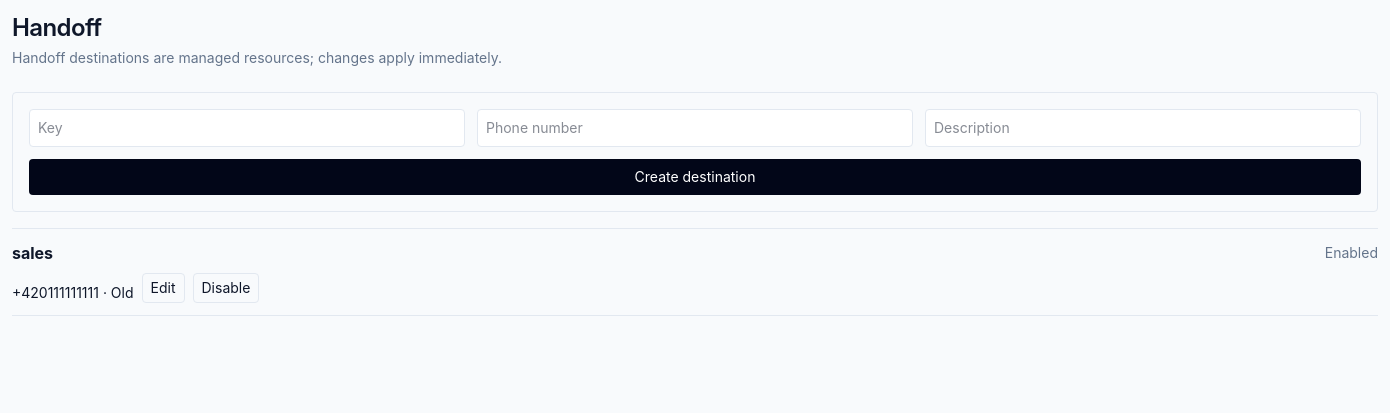
it: Handoff page › keeps edits after a stale ETag response
Click the button "Edit" at (163, 288), box [142, 273, 184, 303]
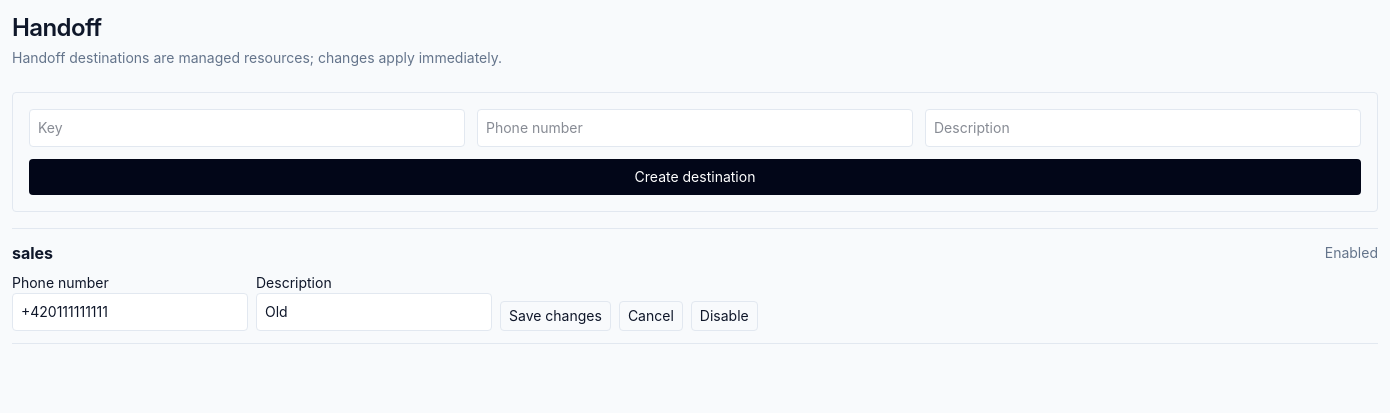
Replace the text in the field named "sales description" with "Changed" at (374, 312), box [256, 293, 492, 331]
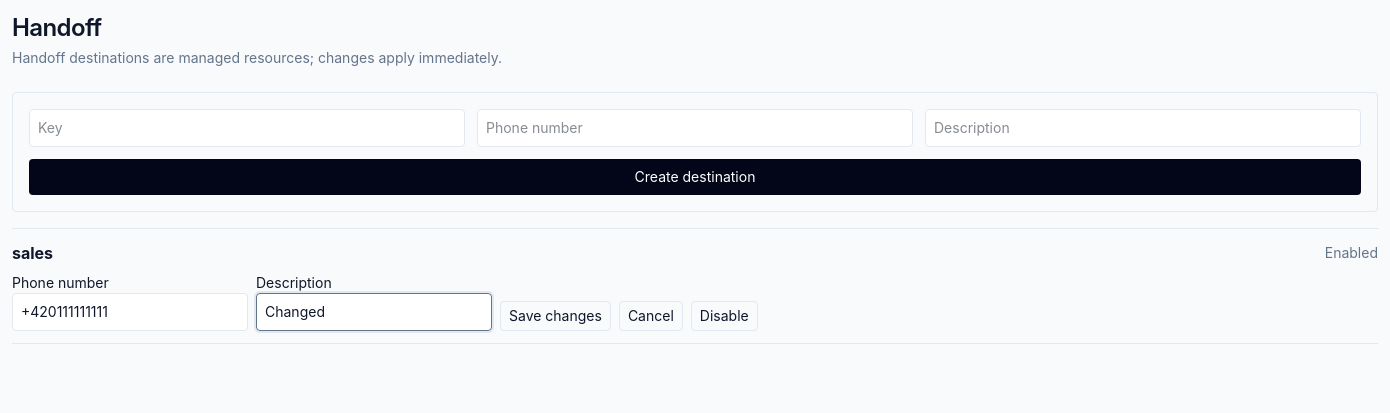
Click the button "Save changes" at (555, 316), box [500, 301, 611, 331]
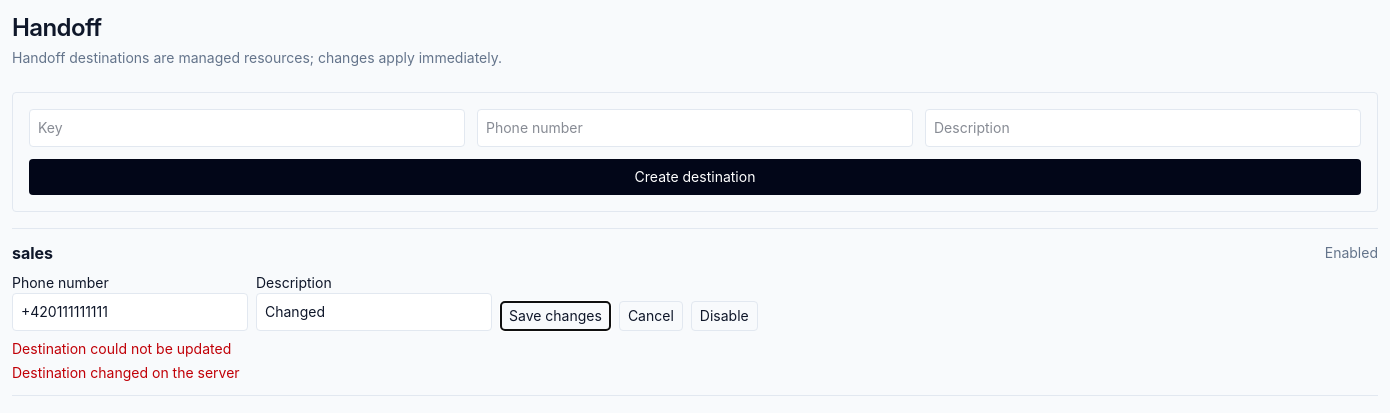
Expected: the message shows "Destination changed on the server", [12, 364, 240, 381]
